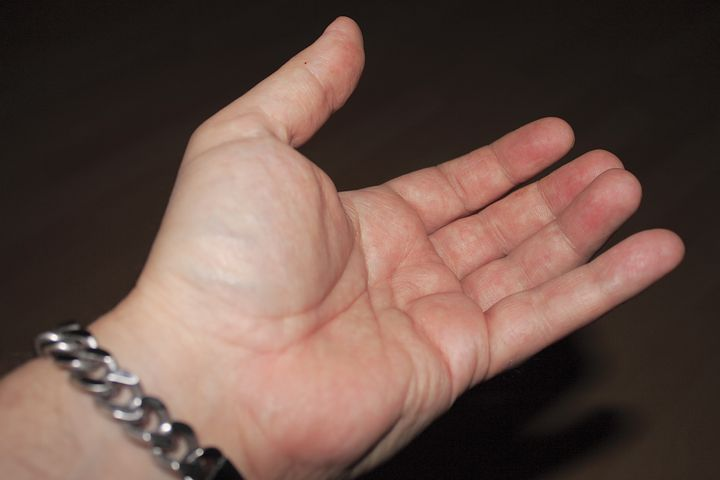palmhand: (166, 118, 683, 440)
